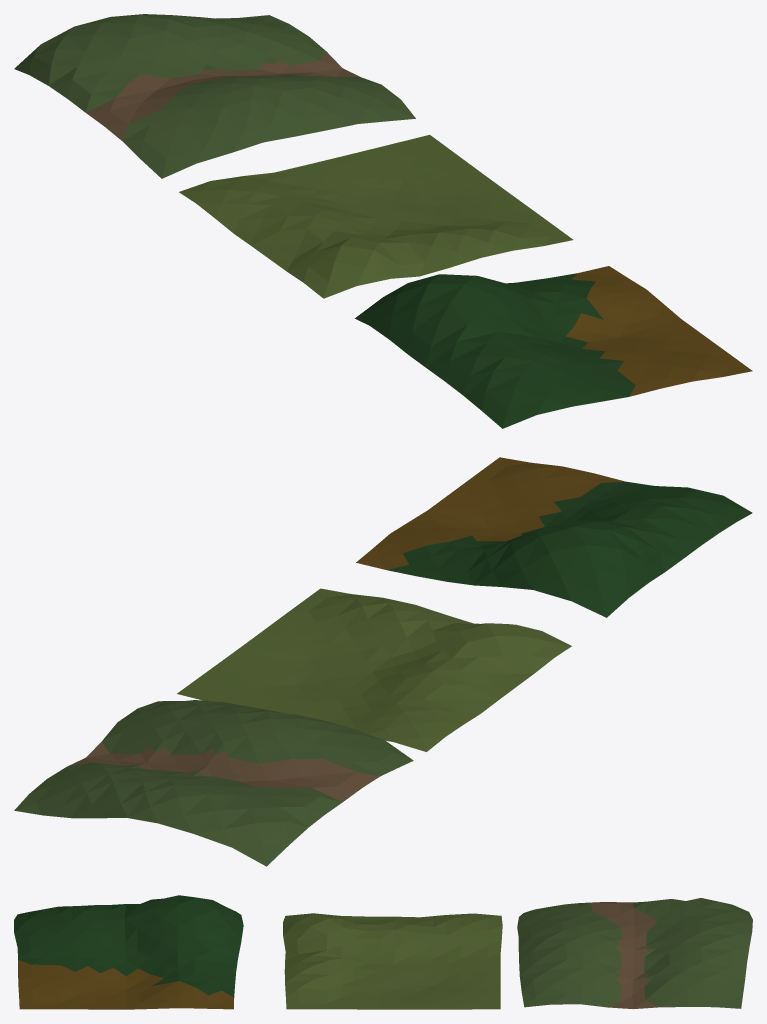
Rendered from landscape.fbx.
The picture shows the model from 3 angles, top to bottom: view 1: azimuth 30°, elevation 25°; view 2: azimuth 150°, elevation 25°; view 3: azimuth 270°, elevation 25°; orthographic projection. The views are drawn at different scales.
Visible parts, largest first — view 1: Plane.001, Plane.002, Plane; view 2: Plane.001, Plane, Plane.002; view 3: Plane.001, Plane.002, Plane.
Part boxes in pixels (<box>): Plane.001: <box>14,14,415,178</box>; Plane.002: <box>355,266,752,428</box>; Plane: <box>179,134,573,298</box>; Plane.001: <box>14,700,413,866</box>; Plane: <box>177,588,571,751</box>; Plane.002: <box>356,457,752,617</box>; Plane.001: <box>517,898,752,1009</box>; Plane.002: <box>14,895,243,1009</box>; Plane: <box>283,913,502,1009</box>.
Bounding box in the file's own units: 33649 × 7114 × 110346.
